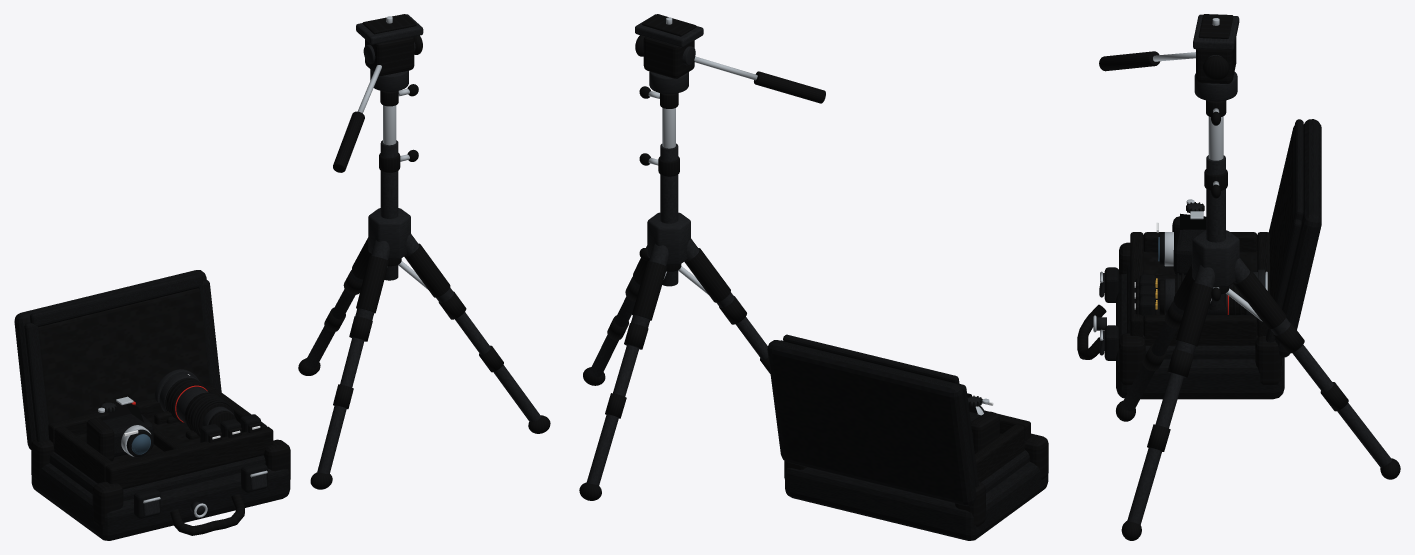
Rendered from MissionCameraEquipmentCargo_LOD00.gltf.
3 views of the same model, side by side, from view 1: azimuth 30°, elevation 25°; view 2: azimuth 150°, elevation 25°; view 3: azimuth 270°, elevation 25° (orthographic). The views are drawn at different scales.
Parts seen in each view (by area): view 1: CameraEquipmentCaseFoam, CameraEquipmentCaseShell, CameraEquipmentTripod, CameraEquipmentTelephotoLens, CameraEquipmentDSLR, CameraEquipmentBatteries, CameraEquipmentCaseHardware; view 2: CameraEquipmentCaseShell, CameraEquipmentTripod, CameraEquipmentCaseFoam, CameraEquipmentDSLR; view 3: CameraEquipmentTripod, CameraEquipmentCaseShell, CameraEquipmentCaseFoam, CameraEquipmentDSLR, CameraEquipmentTelephotoLens, CameraEquipmentBatteries, CameraEquipmentCaseHardware.
Part boxes in pixels (x1,y1,x2,y2): CameraEquipmentCaseFoam: [38, 288, 273, 489]; CameraEquipmentCaseShell: [14, 270, 290, 540]; CameraEquipmentTripod: [298, 14, 550, 489]; CameraEquipmentTelephotoLens: [154, 369, 236, 439]; CameraEquipmentDSLR: [86, 396, 153, 461]; CameraEquipmentBatteries: [200, 414, 261, 442]; CameraEquipmentCaseHardware: [142, 470, 267, 517]; CameraEquipmentCaseShell: [767, 334, 1048, 540]; CameraEquipmentTripod: [579, 14, 825, 500]; CameraEquipmentCaseFoam: [975, 410, 1030, 482]; CameraEquipmentDSLR: [967, 393, 999, 453]; CameraEquipmentTripod: [1099, 14, 1400, 540]; CameraEquipmentCaseShell: [1077, 119, 1321, 399]; CameraEquipmentCaseFoam: [1130, 136, 1293, 345]; CameraEquipmentDSLR: [1156, 199, 1206, 274]; CameraEquipmentTelephotoLens: [1159, 269, 1267, 314]; CameraEquipmentBatteries: [1134, 274, 1157, 317]; CameraEquipmentCaseHardware: [1093, 271, 1106, 355].
Size of the model in its own units: 1.48 by 1.29 by 0.8251.
12 materials, 6 textured.
